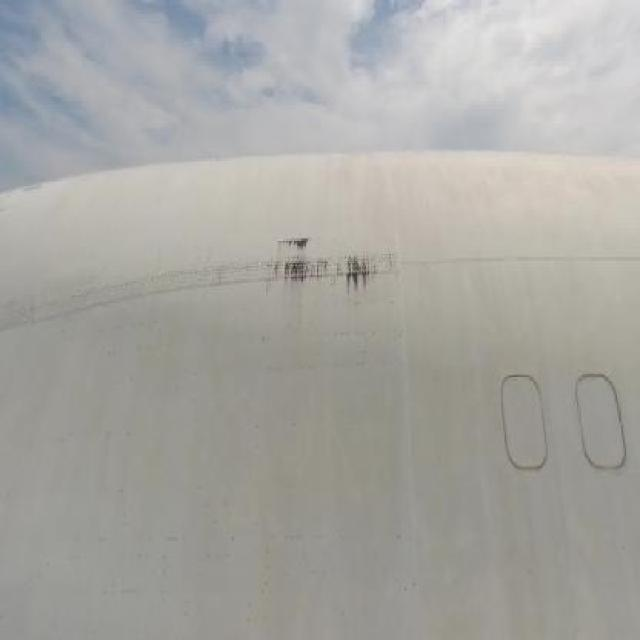Rust: (254, 214, 386, 315)
